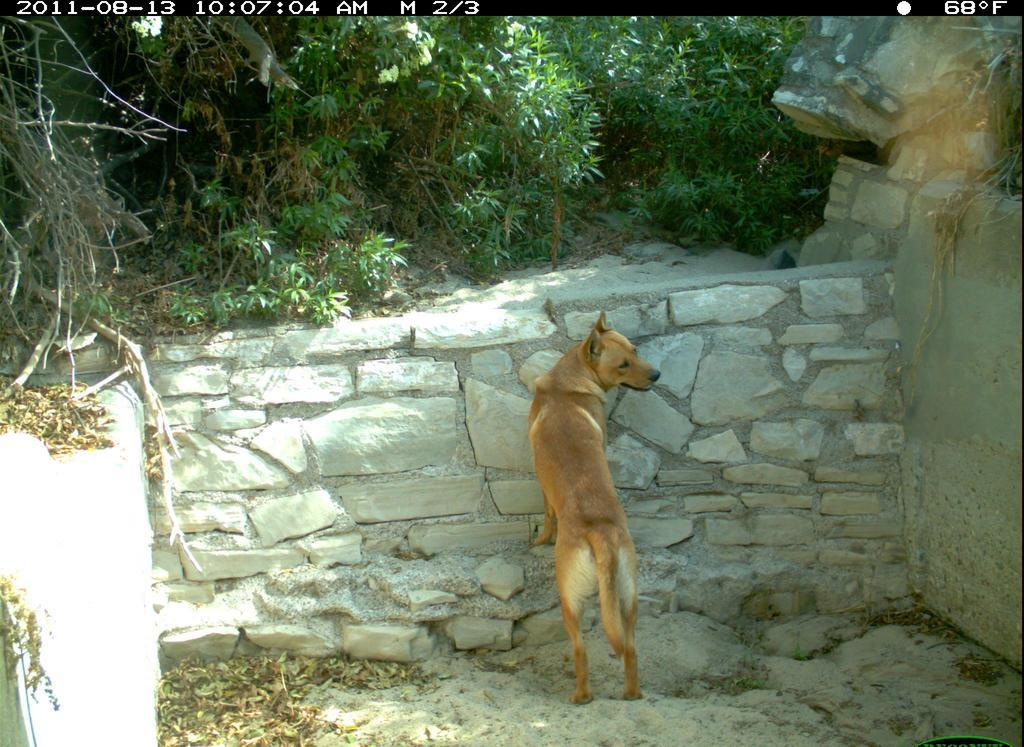dog: (521, 305, 670, 715)
